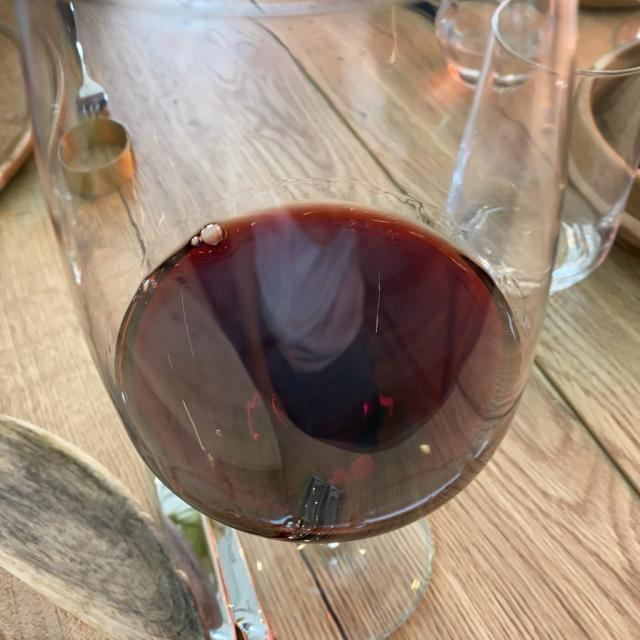wine: (124, 213, 496, 521)
